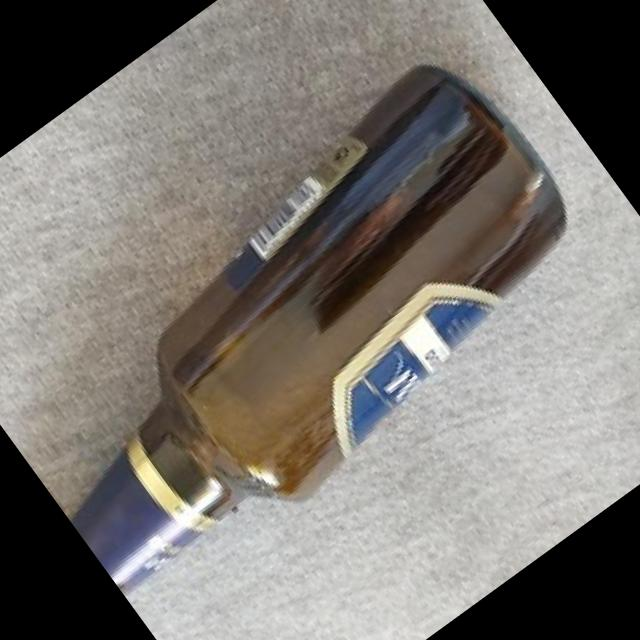BotolKaca: (0, 39, 624, 621)
